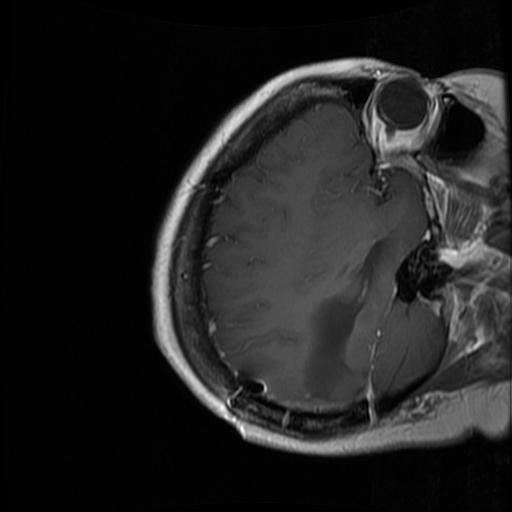glioma: (304, 241, 383, 402)
